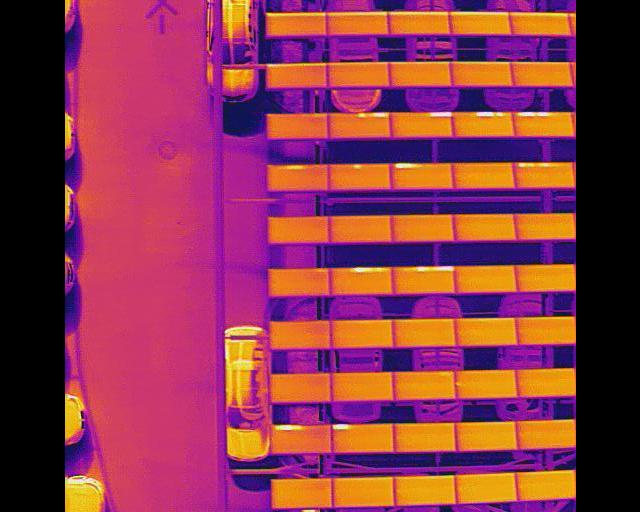Cell: (327, 164, 390, 189)
No-Anomaly: (393, 475, 455, 505), (514, 470, 576, 500), (270, 478, 331, 508), (454, 473, 515, 503), (331, 478, 394, 507), (267, 373, 329, 402), (454, 421, 516, 450), (516, 420, 576, 449), (330, 319, 392, 347), (268, 320, 330, 348), (266, 215, 328, 243), (393, 423, 454, 451), (515, 368, 576, 396), (515, 316, 576, 344), (454, 370, 515, 398), (392, 319, 455, 346), (329, 372, 392, 399), (266, 268, 329, 295), (453, 265, 516, 292), (392, 372, 454, 399), (328, 215, 390, 242), (514, 264, 576, 291), (455, 317, 516, 344), (514, 214, 576, 240), (452, 214, 514, 240), (391, 215, 452, 241), (451, 162, 514, 187), (265, 114, 327, 139), (508, 11, 572, 35), (265, 12, 326, 37), (510, 62, 573, 86), (449, 62, 512, 86), (387, 62, 452, 85), (325, 12, 387, 36), (265, 63, 327, 87), (387, 11, 449, 34), (327, 62, 389, 85), (448, 11, 510, 34)
Unclassified: (331, 423, 393, 452), (269, 424, 331, 452), (391, 266, 454, 293), (389, 161, 451, 188), (329, 267, 391, 294), (327, 112, 388, 139), (266, 164, 327, 191), (511, 111, 574, 137), (451, 111, 514, 137), (388, 111, 450, 137), (511, 161, 575, 186)
